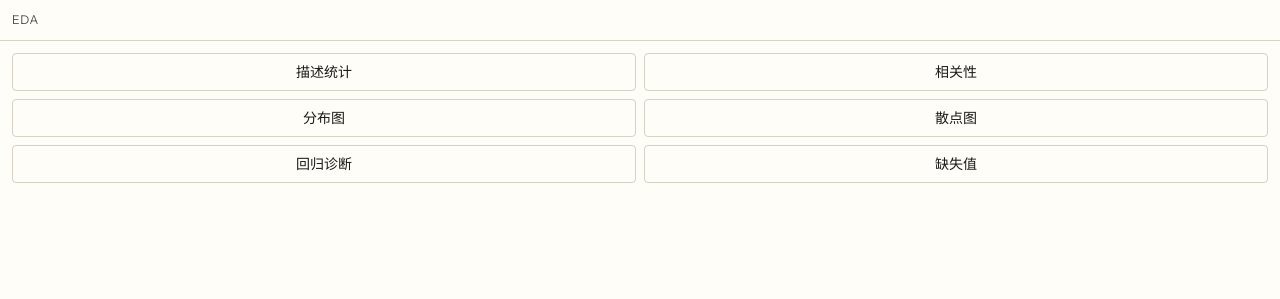
EdaSidebar EDA 侧边栏 › 点"描述统计"按钮 → 调 POST /eda → 渲染表格到侧边栏
Click the button with test id "eda-btn-describe". click: {"x": 324, "y": 72}
box: [12, 53, 636, 91]
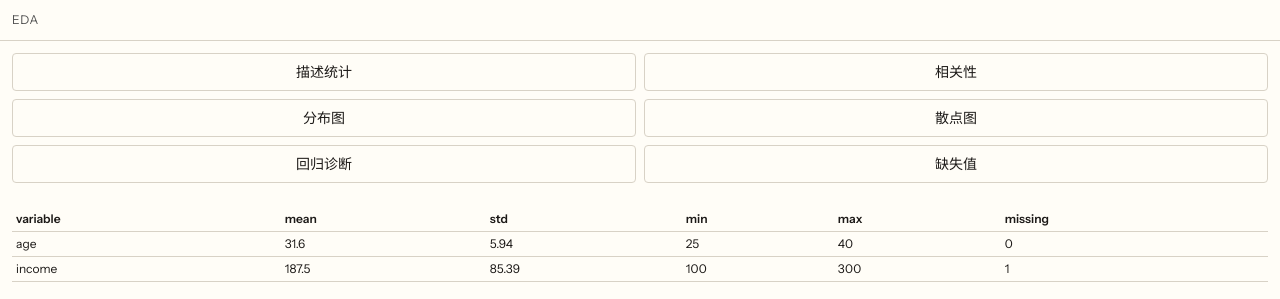
Expected: the text "age" is shown, [12, 232, 281, 256]
Expected: the text "income" is shown, [12, 256, 281, 282]
Expected: the text "31.6" is shown, [281, 232, 486, 256]
